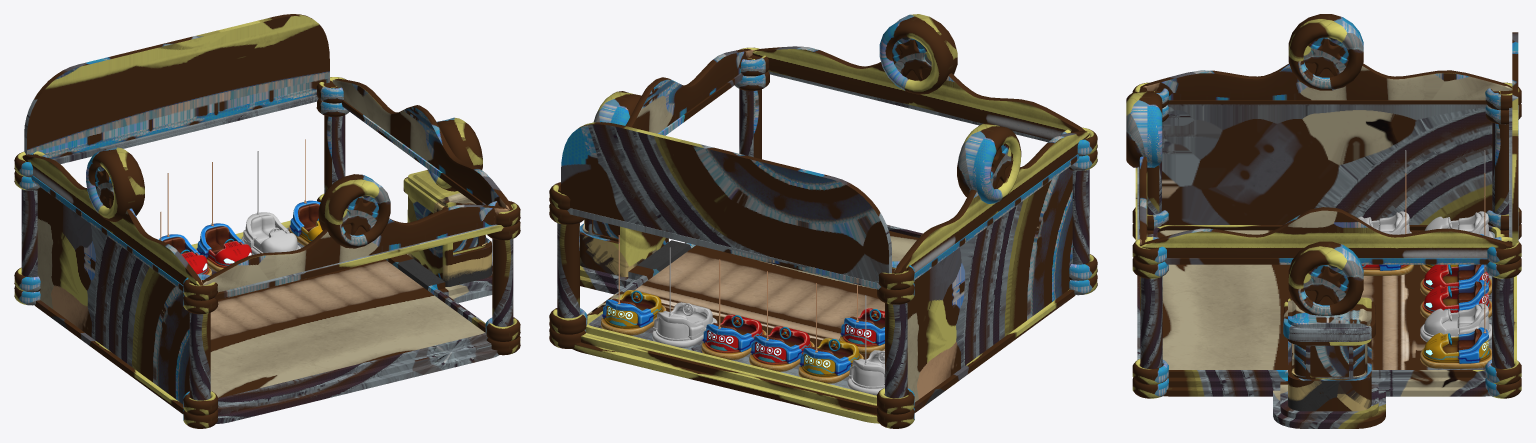
3 views of the same model, side by side, from view 1: azimuth 30°, elevation 25°; view 2: azimuth 150°, elevation 25°; view 3: azimuth 270°, elevation 25° (orthographic). The views are drawn at different scales.
Visible parts, largest first — view 1: area_low, Sign_low, Sign2_low, wave_low, wave_low.002, column_low, frame_low, kassa_low, tyre_low, tyre_low.001, tyre_low.005, tyre_low.004 (+9 smaller); view 2: Sign_low, area_low, Sign2_low, wave_low, wave_low.002, column_low, frame_low, tyre_low, tyre_low.001, kassa_low, tyre_low.005, tyre_low.004 (+17 smaller); view 3: Sign2_low, area_low, wave_low, kassa_low, column_low, frame_low, tyre_low.001, tyre_low.002, tyre_low, tyre_low.005, tyre_low.004, tyre_low.006 (+16 smaller).
Part boxes in pixels (left/top/right/bottom): area_low: left=35, top=220, right=499, bottom=423; Sign_low: left=24, top=14, right=329, bottom=158; Sign2_low: left=37, top=188, right=189, bottom=404; wave_low: left=22, top=78, right=512, bottom=285; wave_low.002: left=202, top=204, right=509, bottom=292; column_low: left=21, top=115, right=513, bottom=400; frame_low: left=31, top=94, right=503, bottom=300; kassa_low: left=403, top=170, right=491, bottom=286; tyre_low: left=318, top=174, right=390, bottom=248; tyre_low.001: left=86, top=147, right=144, bottom=221; tyre_low.005: left=14, top=77, right=520, bottom=300; tyre_low.004: left=14, top=194, right=520, bottom=415; Sign_low: left=561, top=122, right=891, bottom=283; area_low: left=572, top=225, right=1075, bottom=423; Sign2_low: left=907, top=167, right=1072, bottom=402; wave_low: left=558, top=48, right=1089, bottom=273; wave_low.002: left=752, top=46, right=1084, bottom=139; column_low: left=557, top=89, right=1089, bottom=398; frame_low: left=567, top=71, right=1079, bottom=289; tyre_low: left=879, top=14, right=957, bottom=94; tyre_low.001: left=957, top=123, right=1021, bottom=203; kassa_low: left=580, top=219, right=668, bottom=277; tyre_low.005: left=549, top=47, right=1097, bottom=289; tyre_low.004: left=549, top=254, right=1097, bottom=414; Sign2_low: left=1162, top=104, right=1492, bottom=224; area_low: left=1137, top=225, right=1516, bottom=428; wave_low: left=1140, top=63, right=1511, bottom=258; kassa_low: left=1283, top=297, right=1375, bottom=411; column_low: left=1140, top=122, right=1513, bottom=368; frame_low: left=1135, top=100, right=1518, bottom=264; tyre_low.001: left=1288, top=14, right=1363, bottom=90; tyre_low.002: left=1288, top=241, right=1363, bottom=315; tyre_low: left=1126, top=92, right=1162, bottom=167; tyre_low.005: left=1132, top=82, right=1521, bottom=264; tyre_low.004: left=1132, top=207, right=1521, bottom=384; tyre_low.006: left=1132, top=104, right=1521, bottom=278.
Size of the model in its own units: 18.64 by 9.91 by 15.66.
